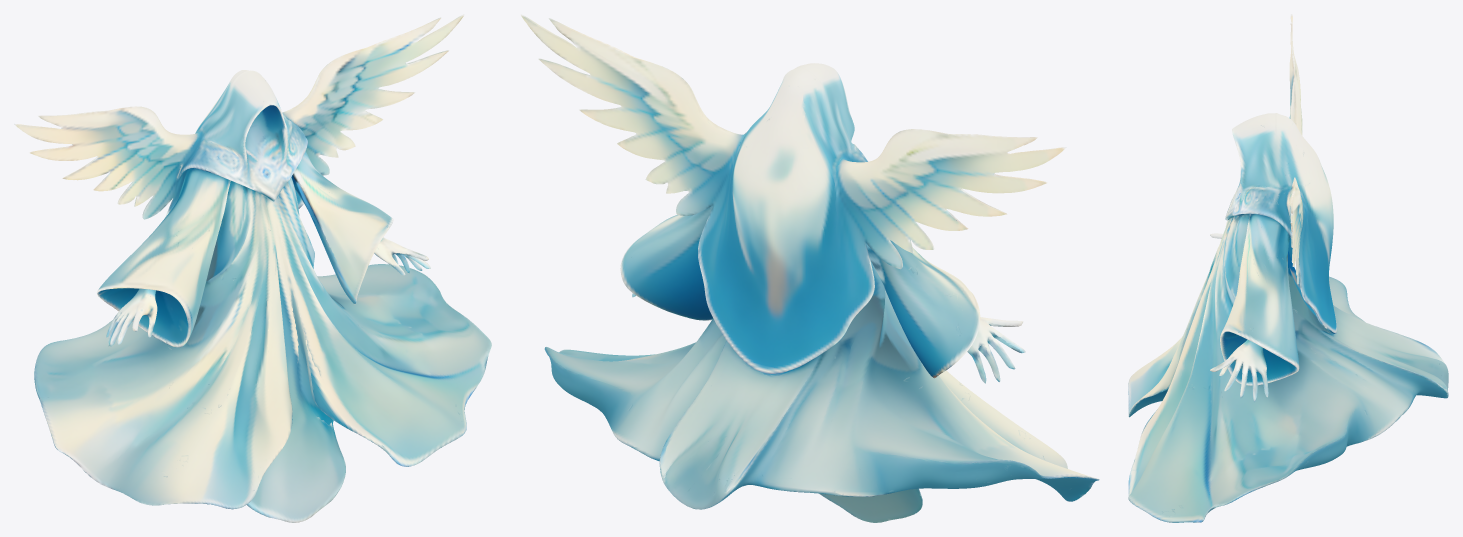
Rendered from luminara.fbx.
The picture shows the model from 3 angles, left to right: view 1: azimuth 30°, elevation 25°; view 2: azimuth 150°, elevation 25°; view 3: azimuth 270°, elevation 25°; orthographic projection. The views are drawn at different scales.
Parts seen in each view (by area): view 1: model; view 2: model; view 3: model.
Boxes of the visible parts, x1=… form: model: x1=14, y1=14, x2=491, y2=522; model: x1=520, y1=14, x2=1099, y2=522; model: x1=1128, y1=14, x2=1448, y2=522.
Bounding box in the file's own units: 190 × 166 × 124.
